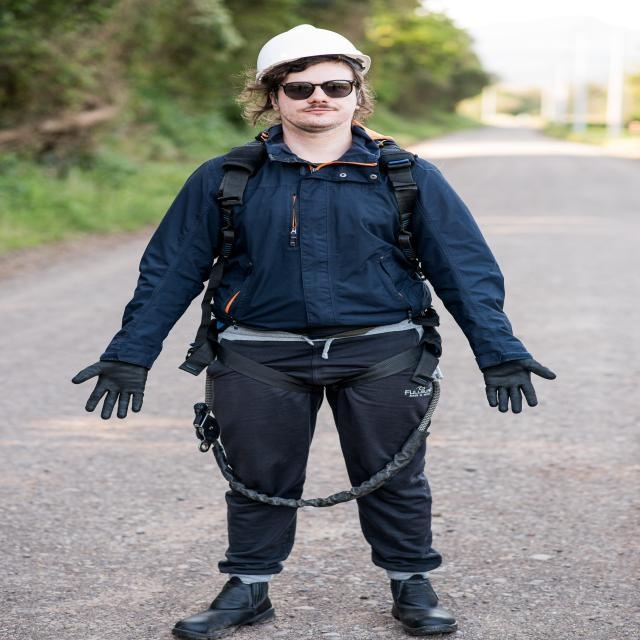Arnes_seguridad: (181, 132, 450, 420)
